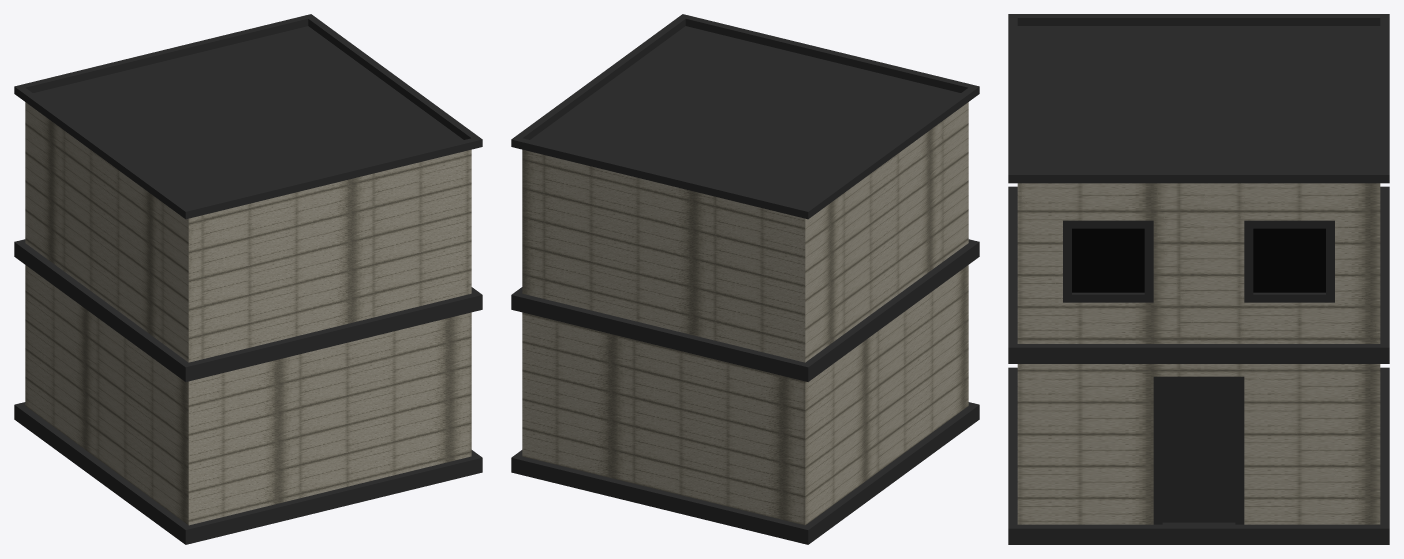
Rendered from buil2.glb.
3 views of the same model, side by side, from view 1: azimuth 30°, elevation 25°; view 2: azimuth 150°, elevation 25°; view 3: azimuth 270°, elevation 25° (orthographic). The views are drawn at different scales.
Visible parts, largest first — view 1: building_003; view 2: building_003; view 3: building_003.
Boxes of the visible parts, bbox=[...] form: building_003: bbox=[14, 14, 482, 544]; building_003: bbox=[511, 14, 979, 544]; building_003: bbox=[1008, 14, 1389, 544].
Bounding box in the file's own units: 4.2 × 4.5 × 4.2.
3 materials, 1 textured.
